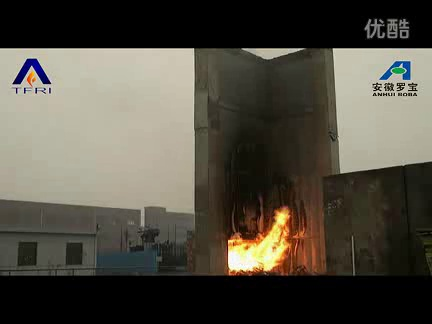fire: (223, 200, 292, 274)
